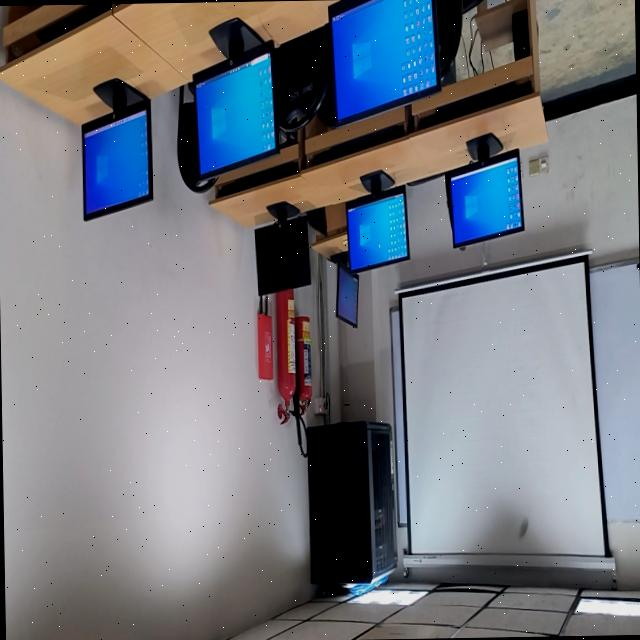Chair: (272, 26, 328, 132), (177, 86, 217, 193), (437, 0, 482, 83)
Fire Extinguisher: (276, 289, 295, 406), (295, 316, 312, 414)
Keyboard: (419, 80, 530, 126), (313, 124, 403, 162), (316, 124, 402, 161), (216, 161, 298, 196), (37, 4, 110, 43)
Light: (349, 588, 428, 605), (576, 598, 640, 616)
Monitor: (320, 0, 441, 128), (193, 43, 279, 177), (81, 79, 153, 220), (446, 150, 524, 248), (346, 187, 409, 273), (254, 217, 311, 294), (335, 266, 359, 327)
Projector: (361, 626, 437, 639)
